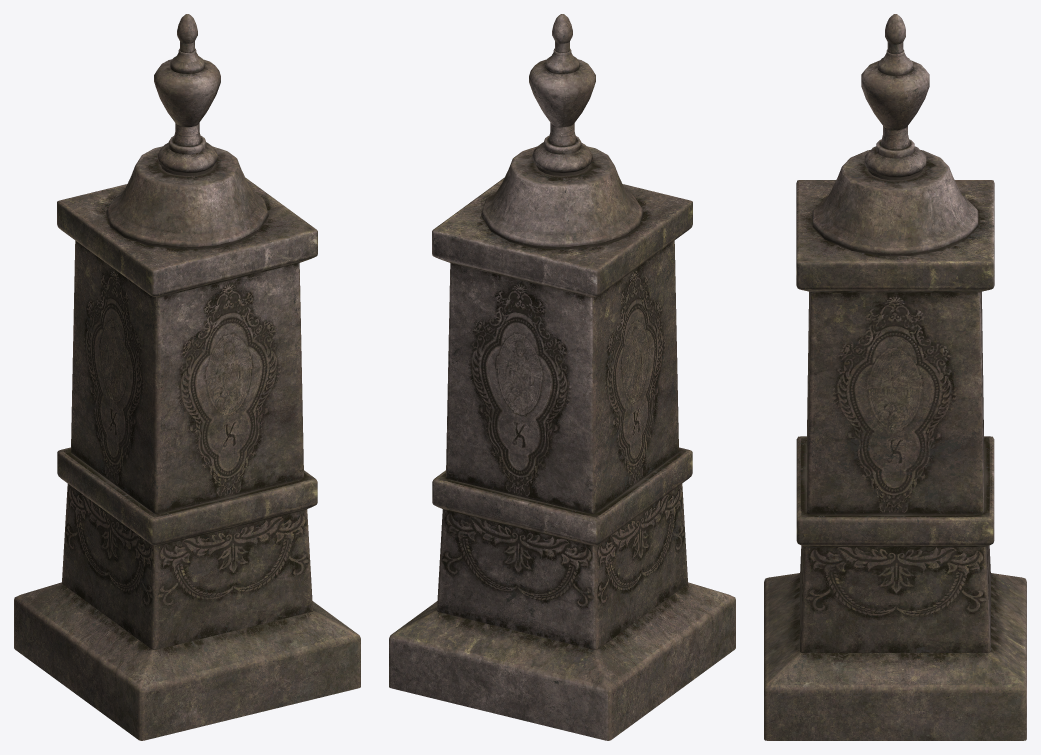
Rendered from SM_gravestone_53.fbx.
3 views of the same model, side by side, from view 1: azimuth 30°, elevation 25°; view 2: azimuth 150°, elevation 25°; view 3: azimuth 270°, elevation 25° (orthographic). The views are drawn at different scales.
Visible parts, largest first — view 1: SM_gravestone_053; view 2: SM_gravestone_053; view 3: SM_gravestone_053.
Part boxes in pixels (bbox=[...]): SM_gravestone_053: bbox=[14, 14, 360, 740]; SM_gravestone_053: bbox=[389, 14, 735, 740]; SM_gravestone_053: bbox=[764, 14, 1026, 740].
Size of the model in its own units: 94.06 by 265 by 94.06.
